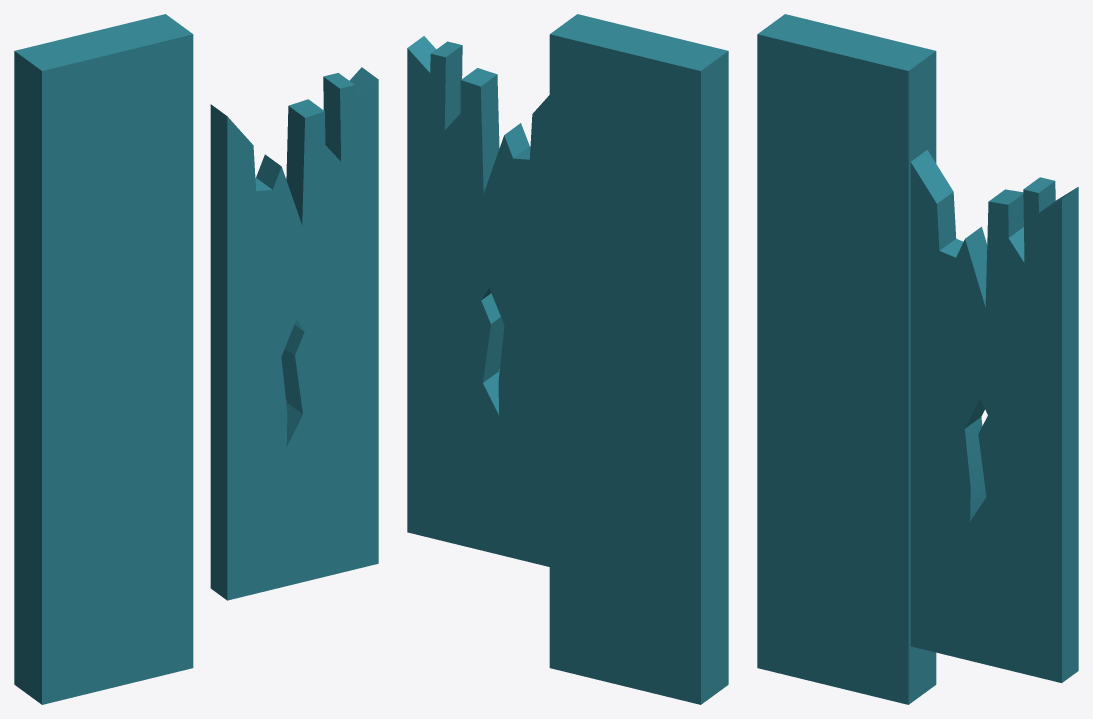
File: planks.fbx
3 renders of one model, left to right at view 1: azimuth 30°, elevation 25°; view 2: azimuth 150°, elevation 25°; view 3: azimuth 330°, elevation 25°, orthographic.
Parts seen in each view (by area): view 1: pCube1, pCube2; view 2: pCube1, pCube2; view 3: pCube1, pCube2.
Boxes of the visible parts, left/top/right/bottom form: pCube1: left=14, top=14, right=193, bottom=704; pCube2: left=210, top=67, right=378, bottom=600; pCube1: left=549, top=14, right=728, bottom=704; pCube2: left=407, top=36, right=549, bottom=566; pCube1: left=757, top=14, right=936, bottom=704; pCube2: left=910, top=150, right=1078, bottom=682.
Size of the model in its own units: 0.8169 by 1.54 by 0.1926.
